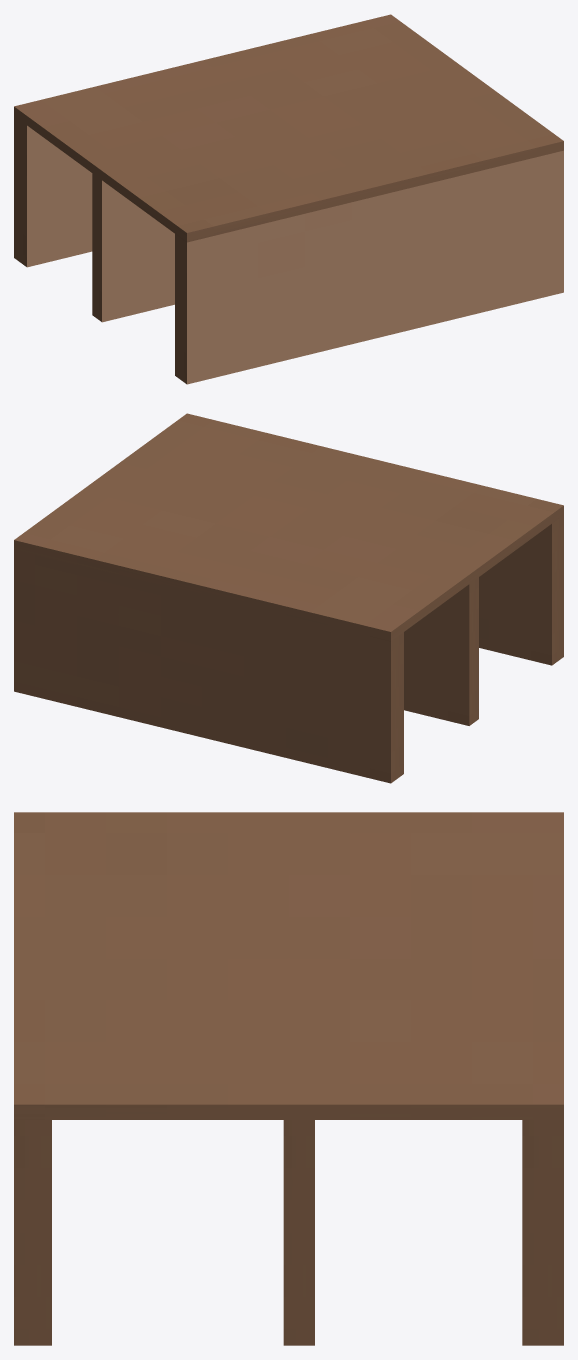
Rendered from pz_g020_furniture_shelving_01_middle_shelves.obj.
3 views of the same model, one above another, from view 1: azimuth 30°, elevation 25°; view 2: azimuth 150°, elevation 25°; view 3: azimuth 270°, elevation 25° (orthographic). The views are drawn at different scales.
Visible parts, largest first — view 1: shelf_back_front, shelf_2_top, shelf_1_top, shelf_0_top, shelf_back_top, shelf_0_right, shelf_back_right, shelf_2_right, shelf_1_right; view 2: shelf_back_front, shelf_0_bottom, shelf_2_bottom, shelf_1_bottom, shelf_back_bottom, shelf_0_right, shelf_back_right, shelf_2_right, shelf_1_right; view 3: shelf_back_front, shelf_0_left, shelf_back_left, shelf_2_left, shelf_1_left.
Part boxes in pixels (<box>): shelf_back_front: <box>14,14,563,232</box>; shelf_2_top: <box>187,150,563,384</box>; shelf_1_top: <box>102,180,174,322</box>; shelf_0_top: <box>27,125,92,267</box>; shelf_back_top: <box>187,141,563,242</box>; shelf_0_right: <box>14,116,26,266</box>; shelf_back_right: <box>14,106,186,241</box>; shelf_2_right: <box>175,234,186,384</box>; shelf_1_right: <box>92,173,101,321</box>; shelf_back_front: <box>14,413,563,631</box>; shelf_0_bottom: <box>14,549,390,783</box>; shelf_2_bottom: <box>479,524,551,665</box>; shelf_1_bottom: <box>404,584,469,725</box>; shelf_back_bottom: <box>14,540,390,641</box>; shelf_0_right: <box>391,632,403,783</box>; shelf_back_right: <box>391,505,563,640</box>; shelf_2_right: <box>552,515,563,665</box>; shelf_1_right: <box>469,577,478,725</box>; shelf_back_front: <box>14,812,563,1104</box>; shelf_0_left: <box>522,1120,563,1345</box>; shelf_back_left: <box>14,1104,563,1119</box>; shelf_2_left: <box>14,1120,51,1345</box>; shelf_1_left: <box>283,1120,314,1345</box>.
Bounding box in the file's own units: 1 × 0.384 × 0.795.
1 material, 1 textured.
